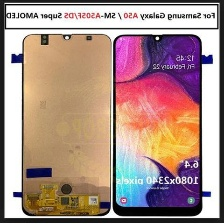phone: (17, 31, 115, 218), (111, 30, 203, 218)
